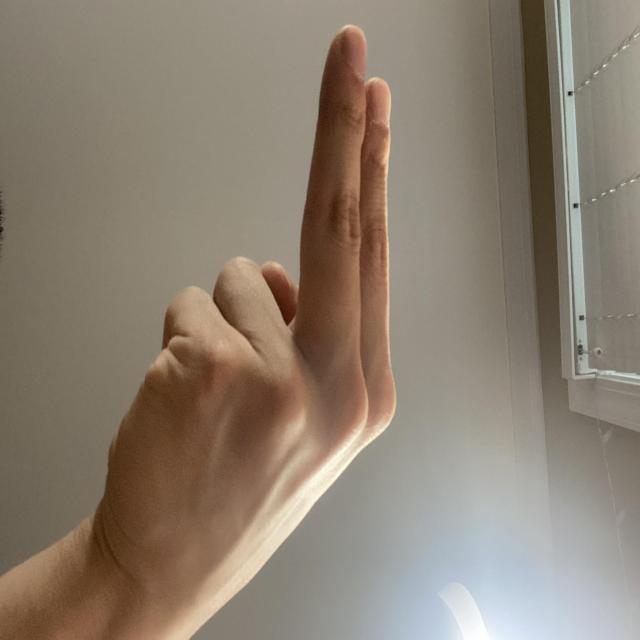H: (160, 316, 639, 640)
